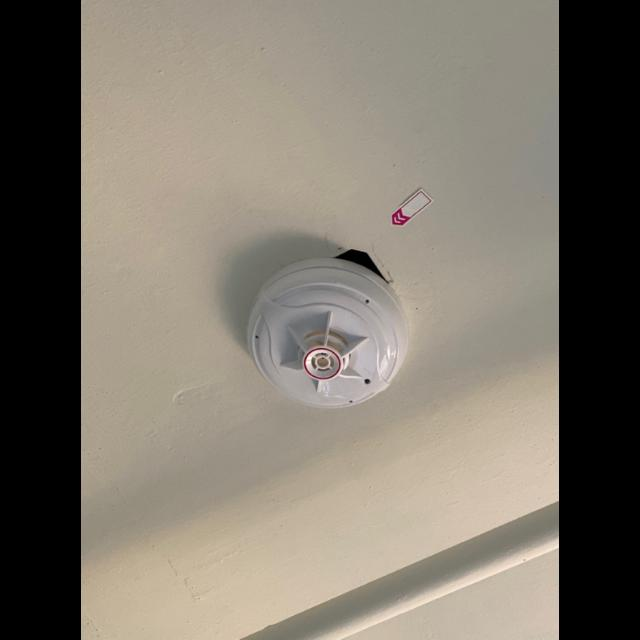Smoke-Detector: (248, 262, 410, 408)
